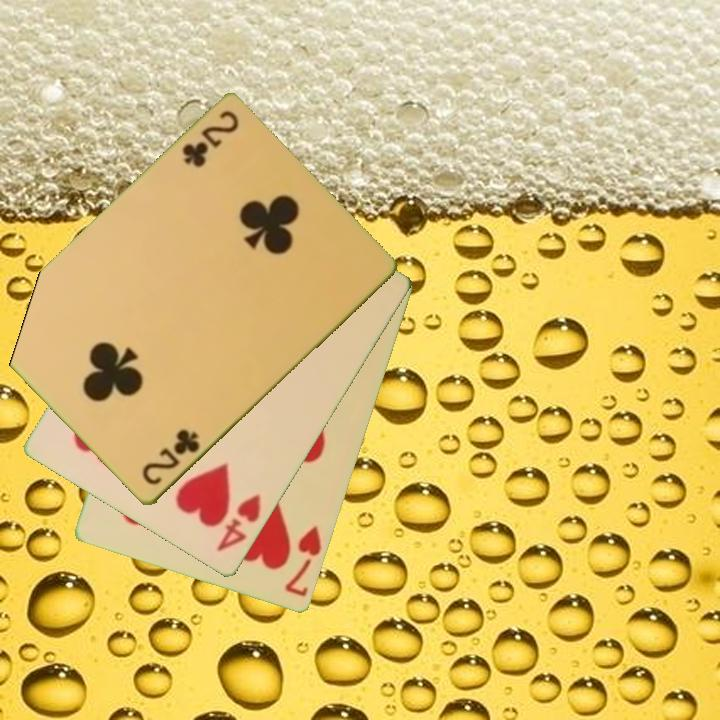2c: (178, 107, 242, 171), (138, 426, 203, 489)
4h: (213, 491, 264, 555)
7h: (281, 523, 325, 601)
